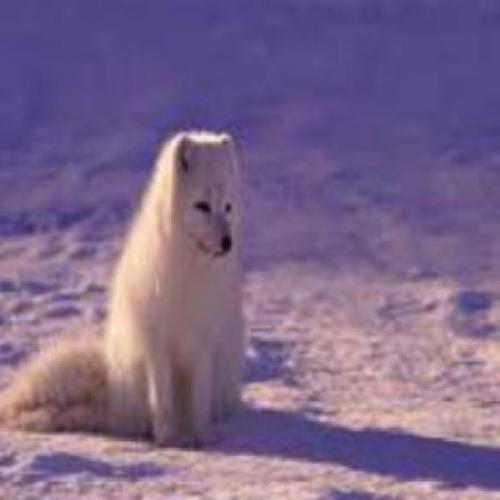arctic_fox-endangered: (5, 129, 245, 452)
